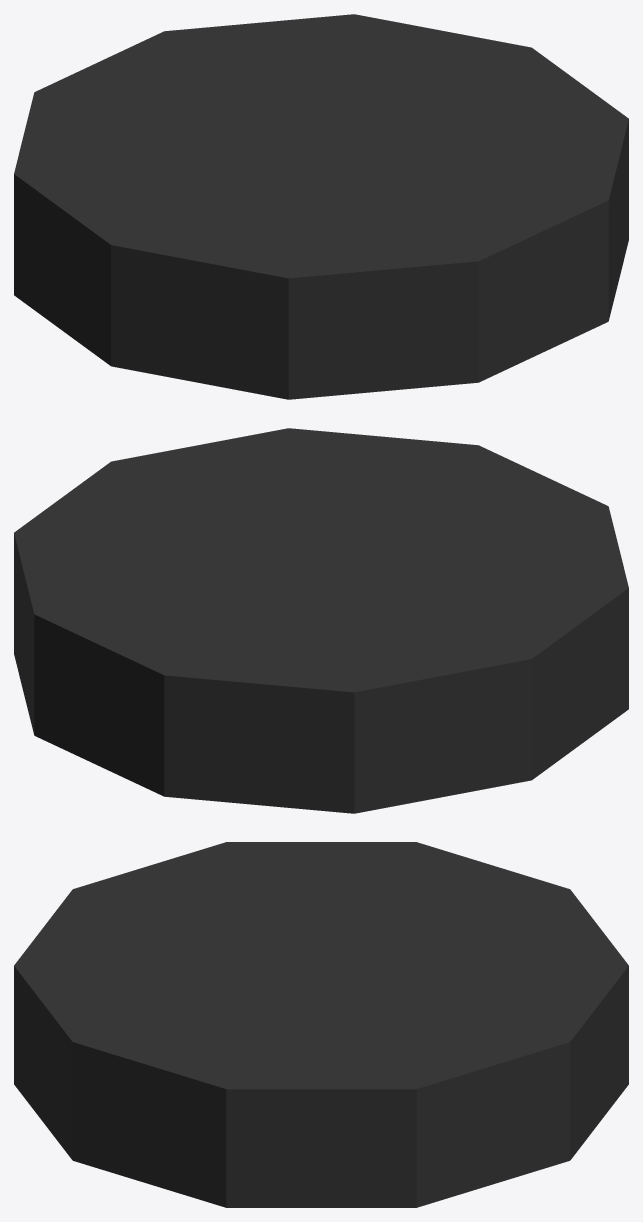
File: newBase.fbx
3 views of the same model, one above another, from view 1: azimuth 30°, elevation 25°; view 2: azimuth 150°, elevation 25°; view 3: azimuth 270°, elevation 25° (orthographic). The views are drawn at different scales.
Parts seen in each view (by area): view 1: Cylinder; view 2: Cylinder; view 3: Cylinder.
Boxes of the visible parts, bbox=[...] form: Cylinder: bbox=[14, 14, 628, 399]; Cylinder: bbox=[14, 428, 628, 813]; Cylinder: bbox=[14, 842, 628, 1207].
Bounding box in the file's own units: 190 × 42.6 × 200.
Materials: 1 (1 with a texture image).
